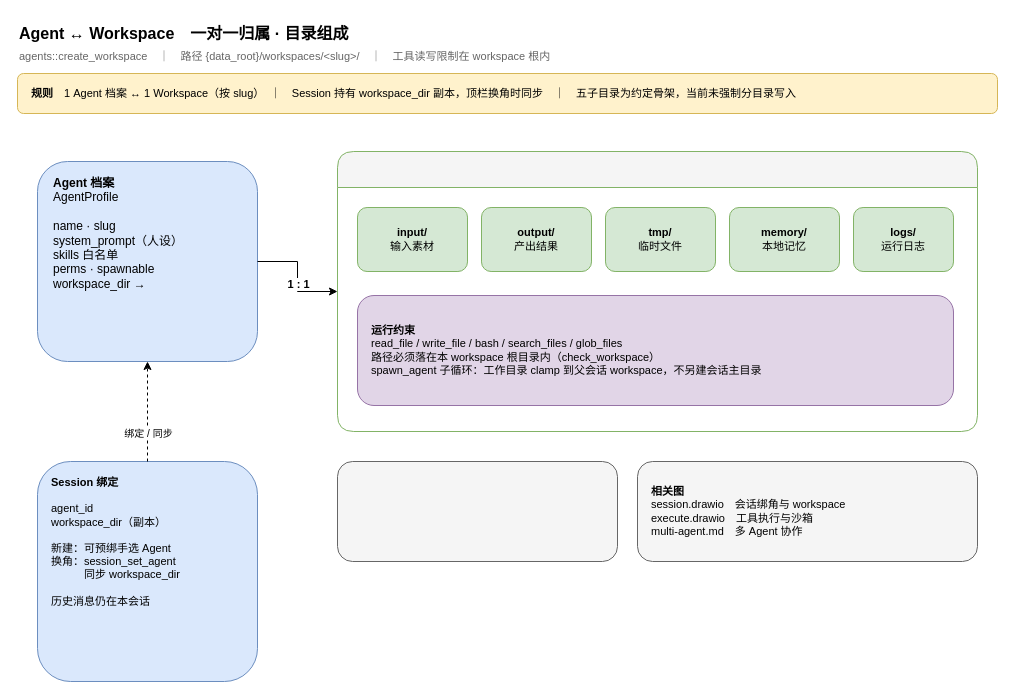
This 1015x699 diagram has some shape labels left out. The box of each missing label's shape, as (x1, y1, x2, y2) in pixels:
Workspace workspaces/<slug>/: (336, 150, 978, 432)
示例 Agent slug = main → …/workspaces/main/ input/ output/ tmp/ memory/ logs/: (336, 460, 618, 562)
